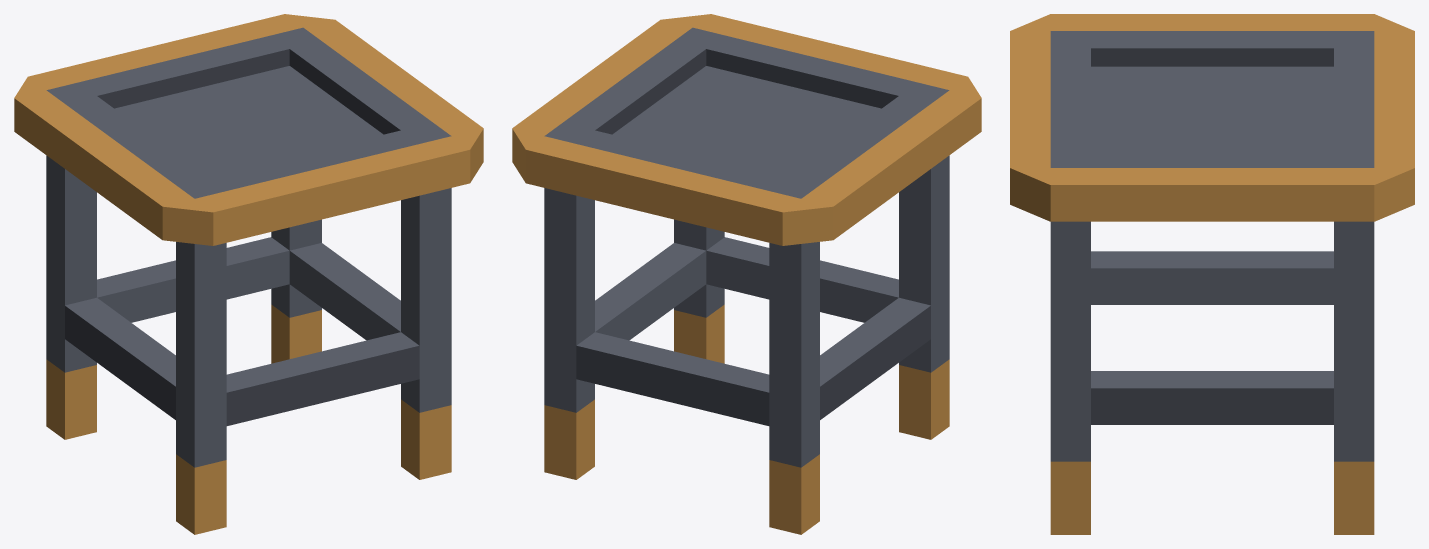
The model's file is station_pad.glb.
3 views of the same model, side by side, from view 1: azimuth 30°, elevation 25°; view 2: azimuth 150°, elevation 25°; view 3: azimuth 270°, elevation 25° (orthographic). The views are drawn at different scales.
Parts seen in each view (by area): view 1: body; view 2: body; view 3: body.
Boxes of the visible parts, <box> form: body: <box>14,14,483,534</box>; body: <box>512,14,981,534</box>; body: <box>1010,14,1414,534</box>.
Size of the model in its own units: 1 by 1 by 1.
